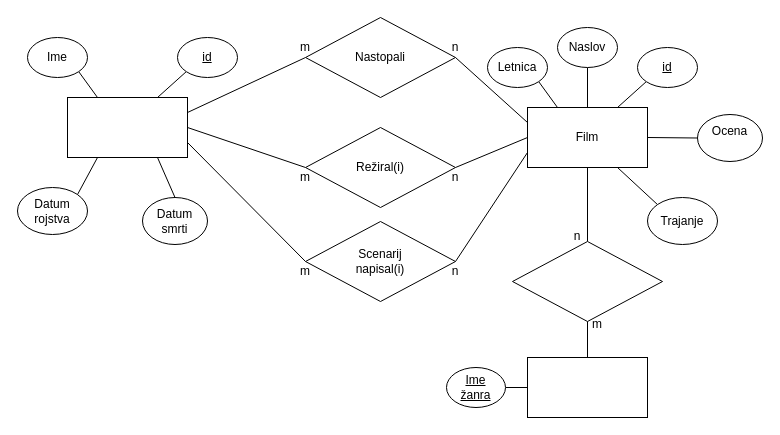
Image size: 780x435. Some labels were removed from this diagram. The shapes that lost their labels are listed below. From the top down, each one's centre as x and y in pixels, then its label:
the point at 127,127: Ljudje
the point at 587,281: Spada
the point at 587,387: Žanri
